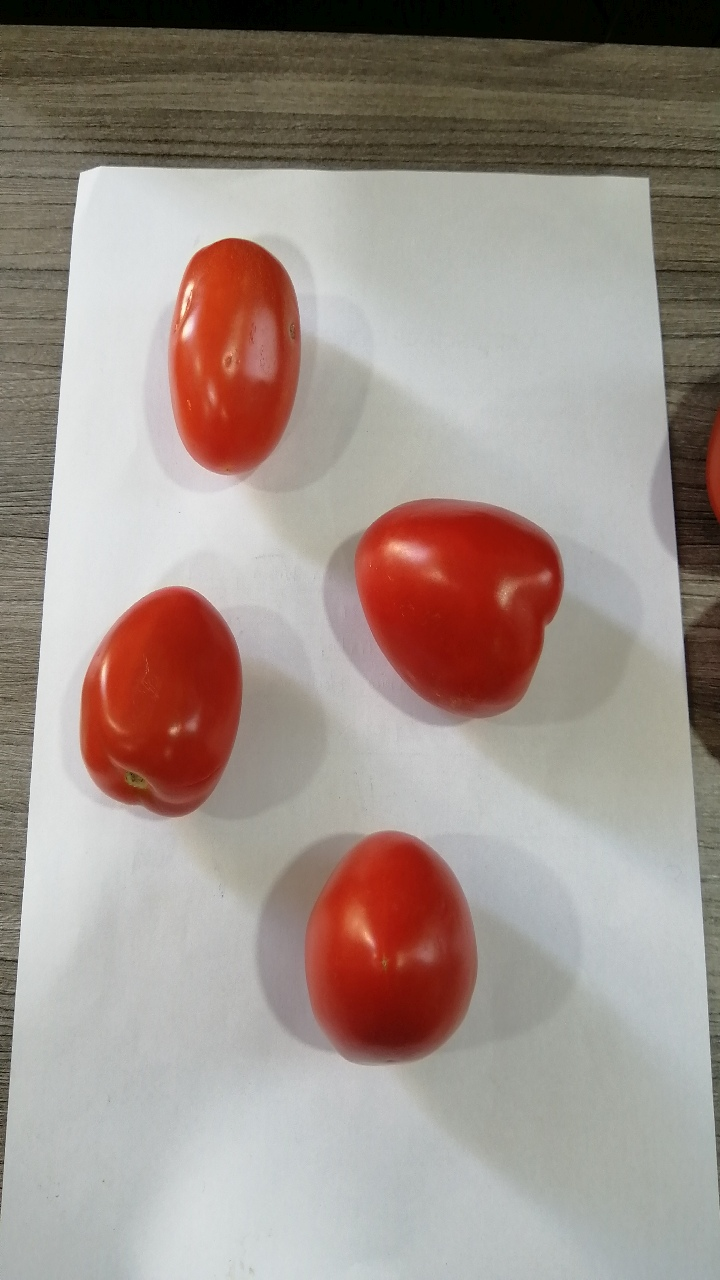tomateRojo: (329, 489, 580, 749), (55, 574, 260, 829), (288, 812, 486, 1072), (154, 232, 314, 500)
